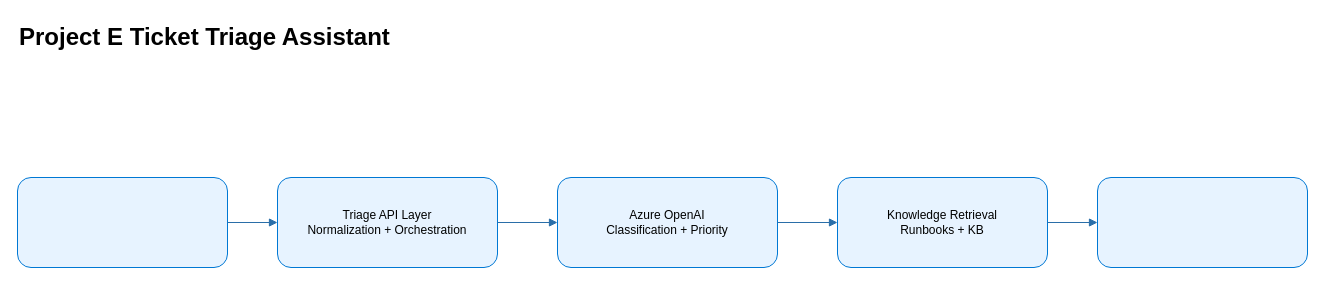
Image size: 1325x285. Some labels were removed from this diagram. Each missing label, with the box of its shape:
Copilot Experience Agent Suggestions: (1096, 176, 1308, 268)
Support Channels Portal / Email / API: (16, 176, 228, 268)
